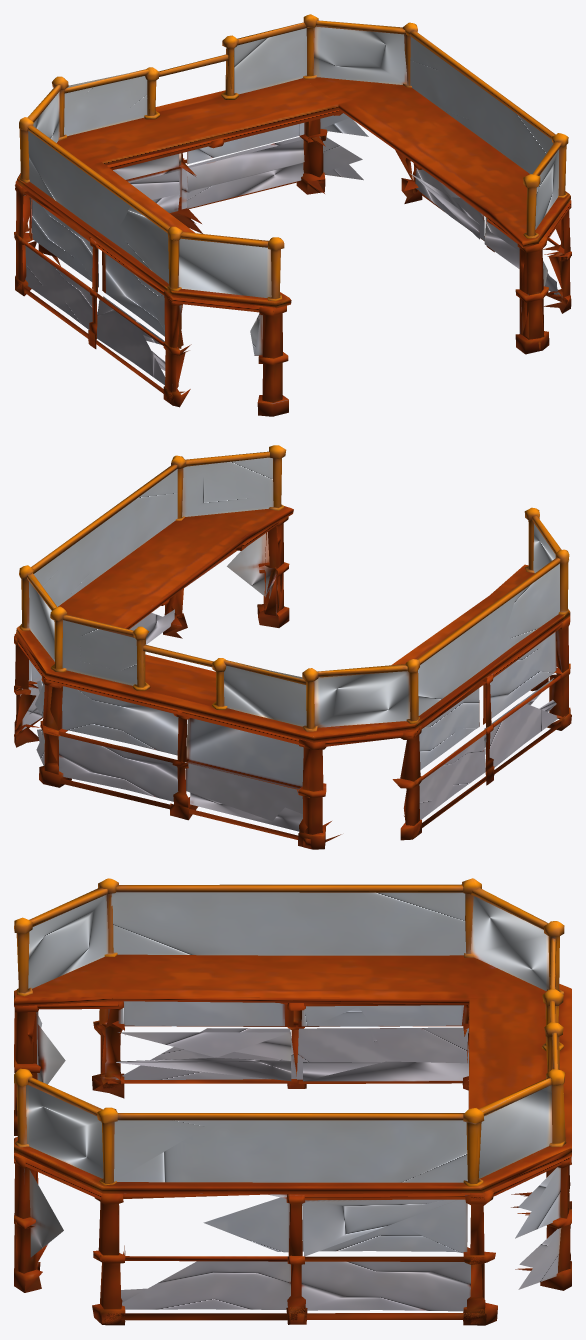
File: counter_u_shell.glb
3 renders of one model, top to bottom at view 1: azimuth 30°, elevation 25°; view 2: azimuth 150°, elevation 25°; view 3: azimuth 270°, elevation 25°, orthographic. The views are drawn at different scales.
Visible parts, largest first — view 1: geometry_0; view 2: geometry_0; view 3: geometry_0.
Part boxes in pixels (x1,y1,x2,y2): geometry_0: (14, 14, 571, 416); geometry_0: (14, 445, 571, 849); geometry_0: (14, 878, 571, 1325).
Size of the model in its own units: 1 by 0.4238 by 1.
1 material, 1 textured.
